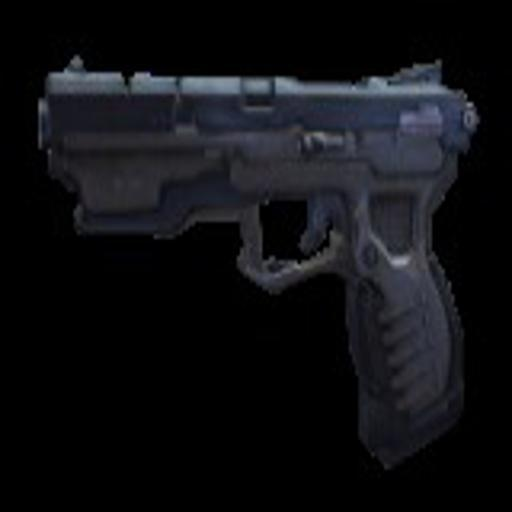Handgun: (34, 50, 479, 472)
